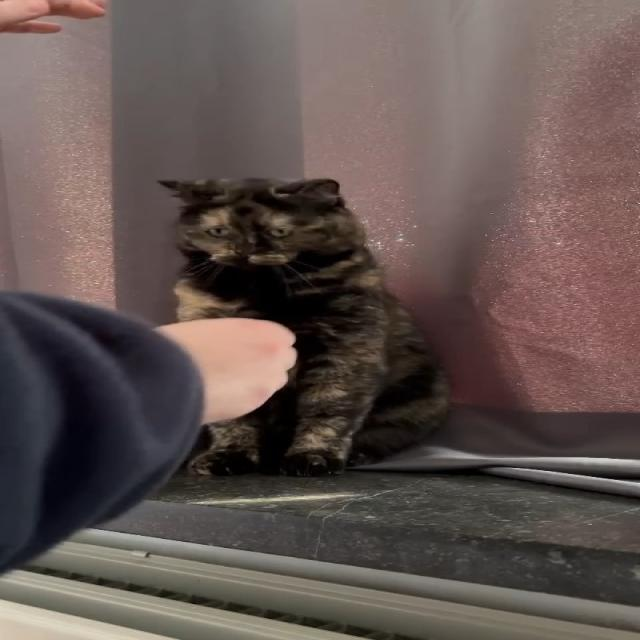authorized: (155, 176, 452, 477)
